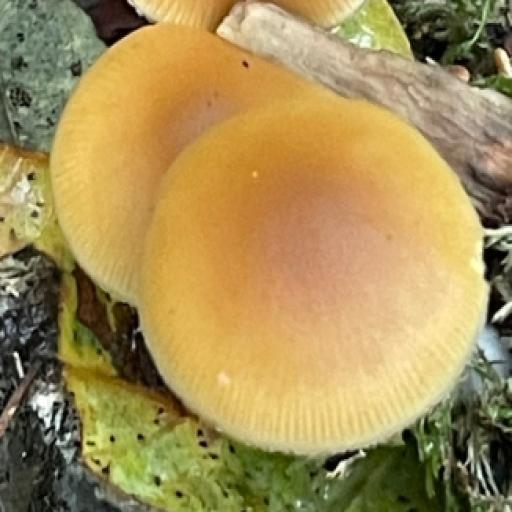mushroom: (51, 17, 499, 462)
